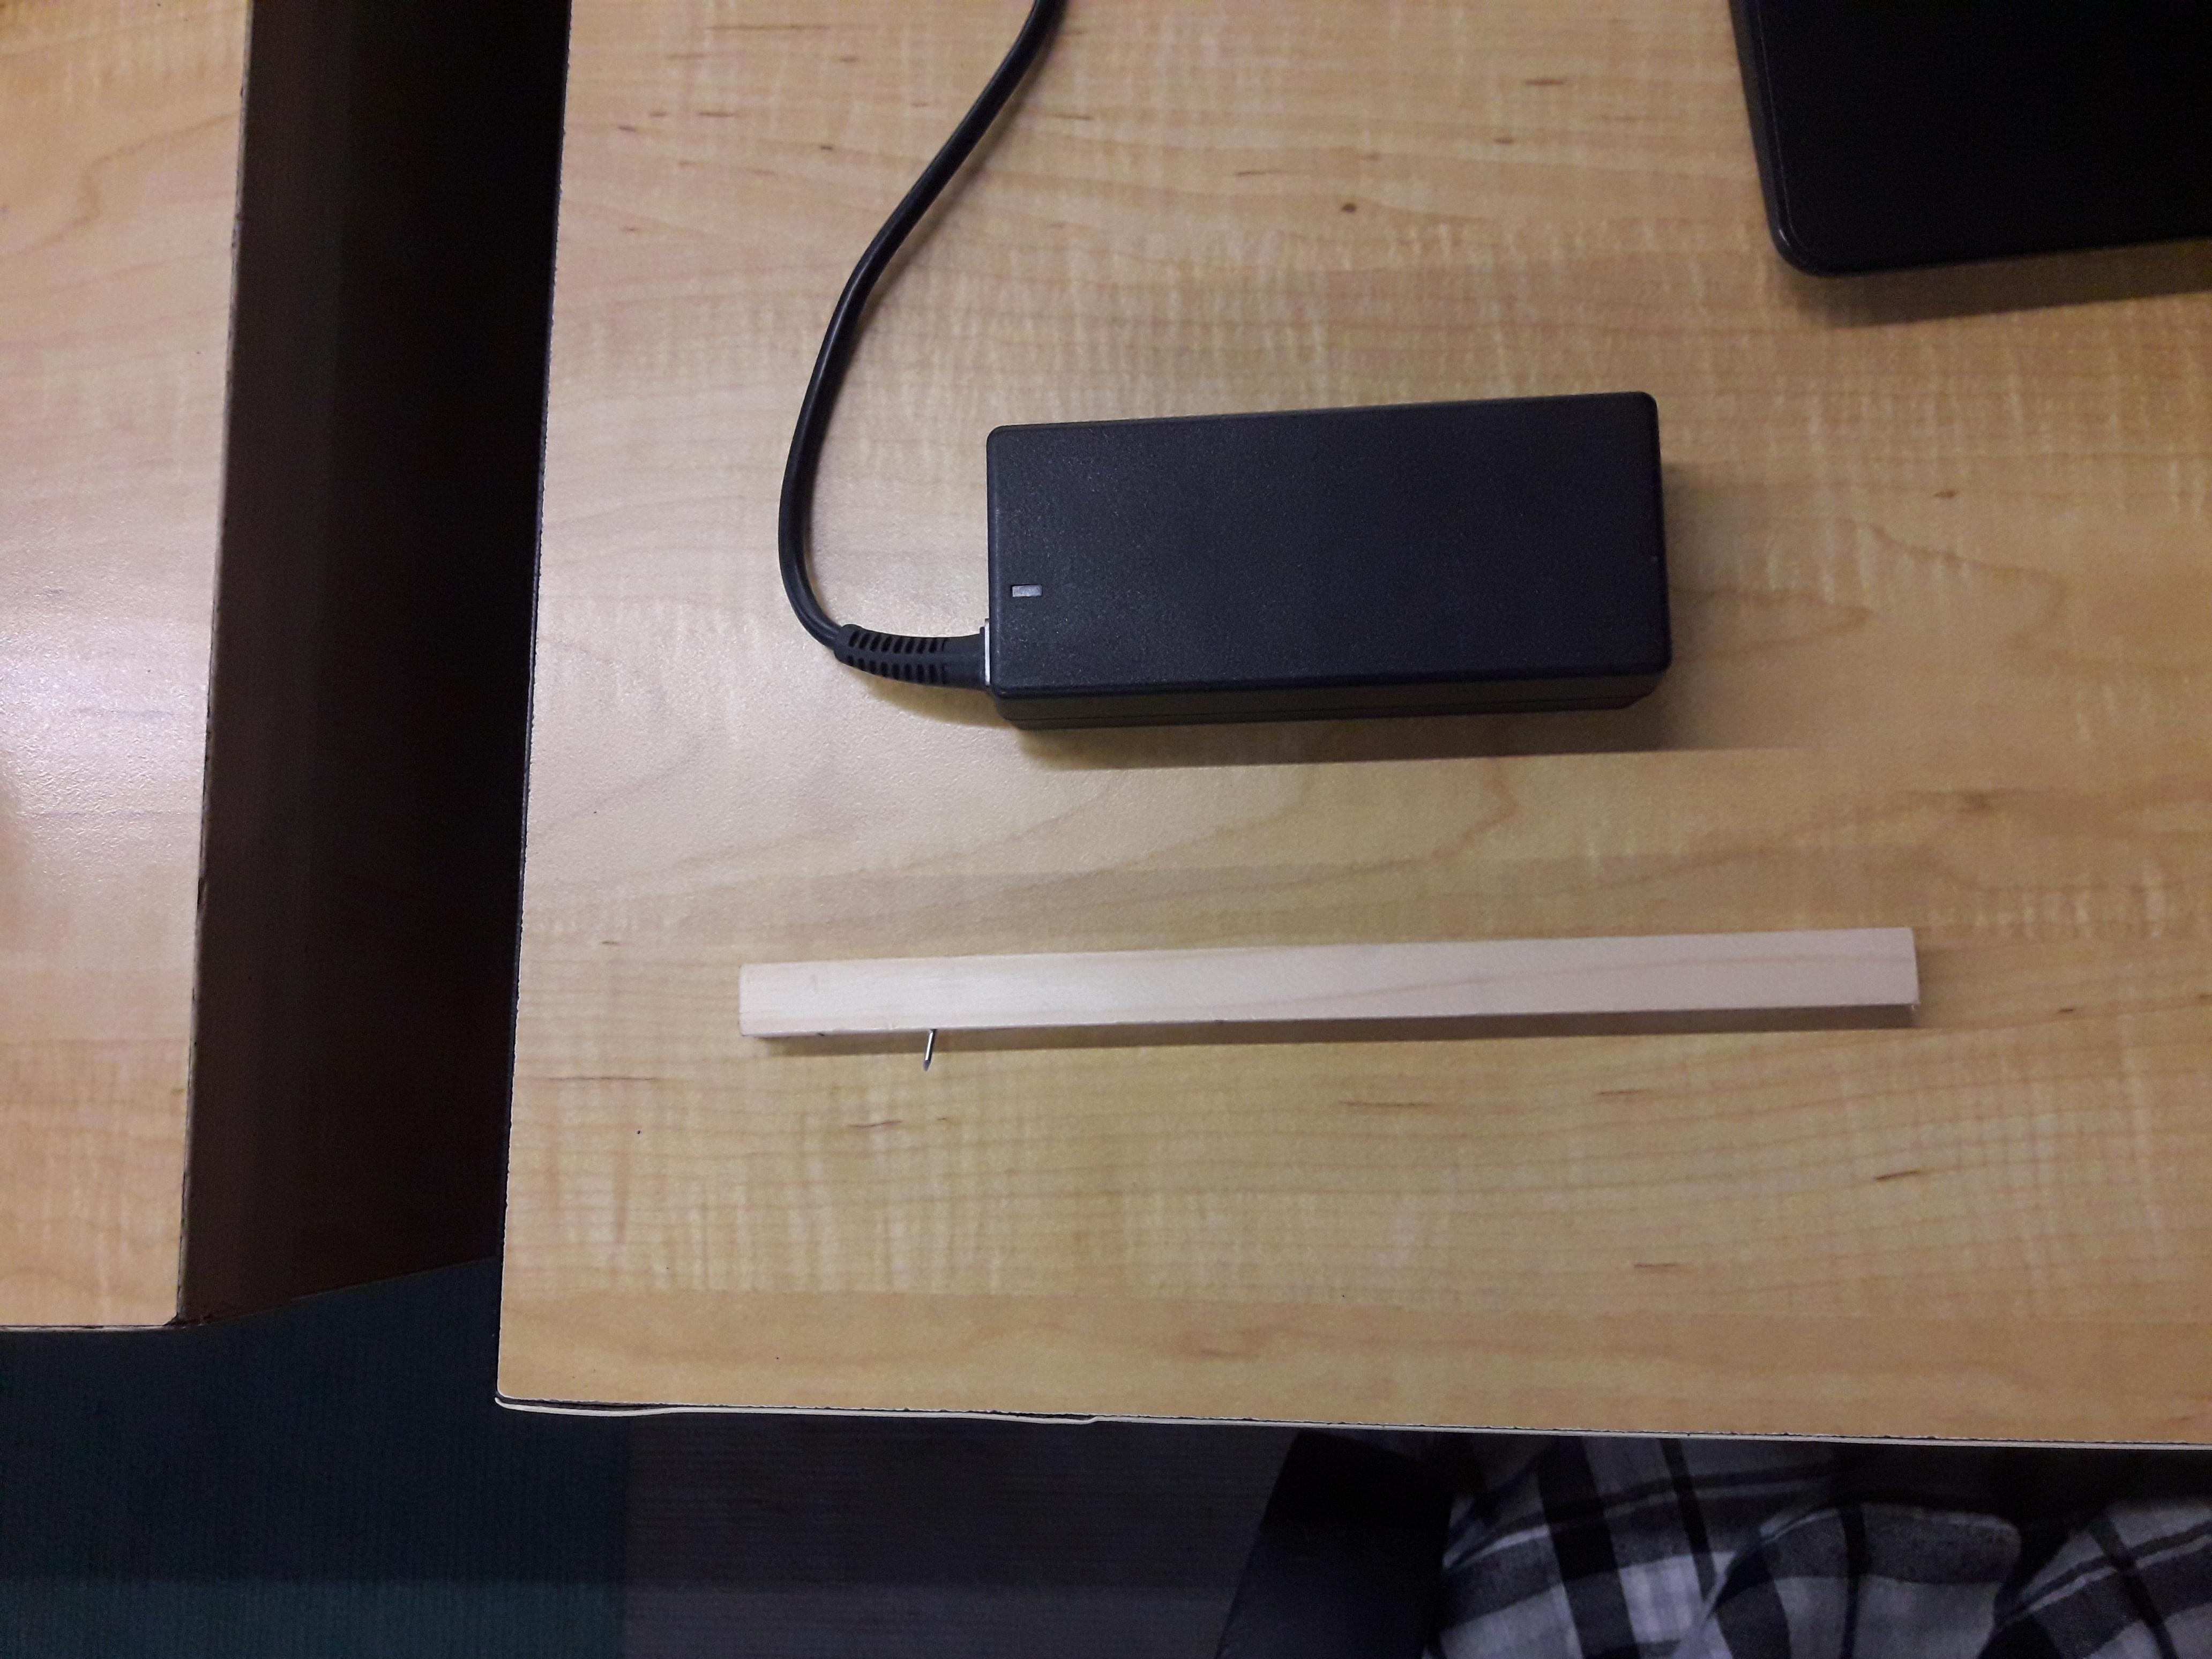object: (989, 383, 1672, 688)
reference: (738, 924, 1921, 1033)
